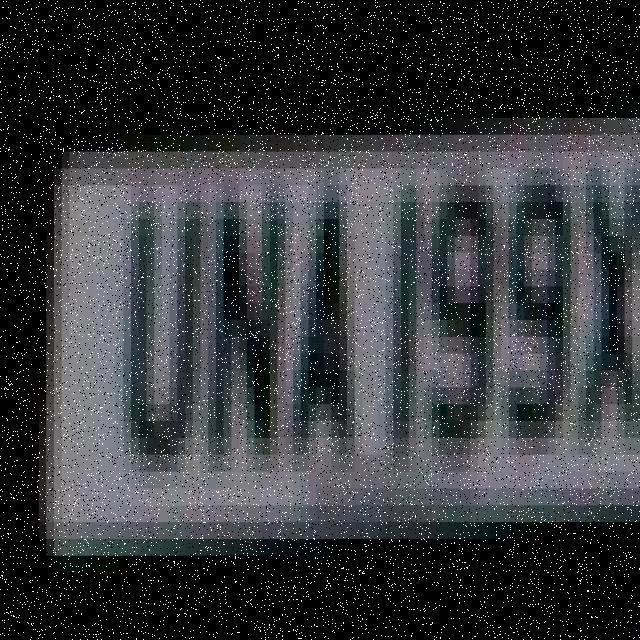LicensePlate: (24, 62, 640, 584)
